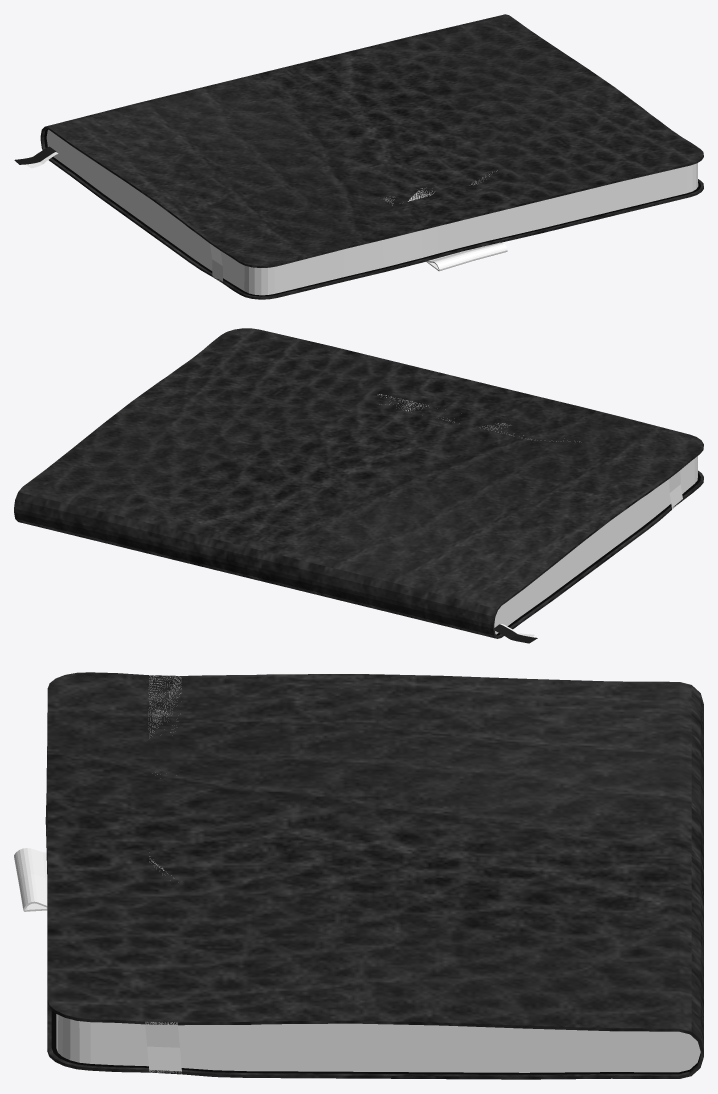
3 renders of one model, top to bottom at view 1: azimuth 30°, elevation 25°; view 2: azimuth 150°, elevation 25°; view 3: azimuth 270°, elevation 25°, orthographic. The views are drawn at different scales.
Visible parts, largest first — view 1: Cube, Plane.003, Cube.001; view 2: Cube, Cube.001; view 3: Cube, Cube.001, Plane.003.
Part boxes in pixels (left/top/right/bottom): Cube: left=40, top=14, right=703, bottom=299; Plane.003: left=426, top=242, right=507, bottom=271; Cube.001: left=210, top=170, right=497, bottom=281; Cube: left=14, top=328, right=703, bottom=638; Cube.001: left=379, top=394, right=682, bottom=509; Cube: left=45, top=672, right=703, bottom=1079; Cube.001: left=145, top=675, right=181, bottom=1073; Plane.003: left=14, top=848, right=47, bottom=911.
Bounding box in the file's own units: 0.214 × 0.0171 × 0.1681.
6 materials, 1 textured.
